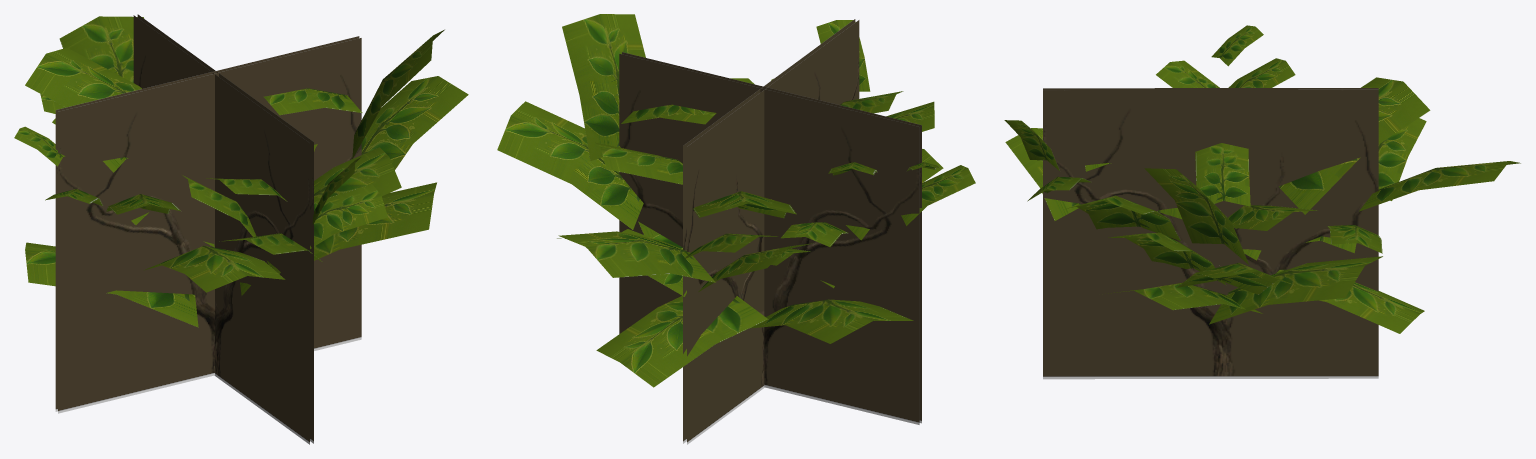
The model's file is xzl_cao02_z.FBX.
The picture shows the model from 3 angles, left to right: view 1: azimuth 30°, elevation 25°; view 2: azimuth 150°, elevation 25°; view 3: azimuth 270°, elevation 25°; orthographic projection. The views are drawn at different scales.
Visible parts, largest first — view 1: xzl_cao02_z; view 2: xzl_cao02_z; view 3: xzl_cao02_z.
Boxes of the visible parts, x1=… form: xzl_cao02_z: x1=14, y1=14, x2=468, y2=444; xzl_cao02_z: x1=497, y1=14, x2=975, y2=444; xzl_cao02_z: x1=1004, y1=25, x2=1520, y2=379.
Size of the model in its own units: 3278 by 2217 by 3483.
1 material, 1 textured.
